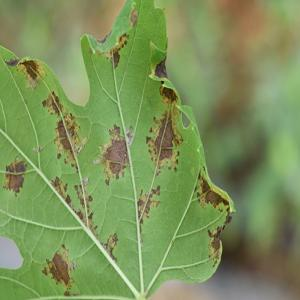Folha: (0, 0, 235, 298)
Fungo: (42, 90, 118, 263), (137, 86, 183, 241), (50, 175, 118, 263), (42, 90, 87, 172), (145, 106, 183, 176), (93, 123, 133, 185), (42, 243, 77, 295), (50, 176, 84, 222), (89, 31, 129, 68), (74, 177, 98, 238), (195, 173, 229, 213), (137, 184, 160, 234), (153, 110, 174, 162), (16, 57, 46, 90), (2, 156, 26, 196), (149, 33, 169, 79), (0, 236, 24, 270), (207, 223, 225, 267), (50, 176, 73, 209), (109, 32, 129, 68), (159, 83, 177, 108), (104, 232, 118, 262), (154, 54, 169, 80), (74, 184, 86, 209), (88, 210, 98, 238), (128, 5, 138, 27), (125, 124, 133, 146), (4, 57, 20, 66), (32, 144, 42, 154), (64, 194, 72, 206), (32, 146, 38, 154), (88, 194, 93, 202), (38, 144, 43, 152), (24, 98, 27, 104)
